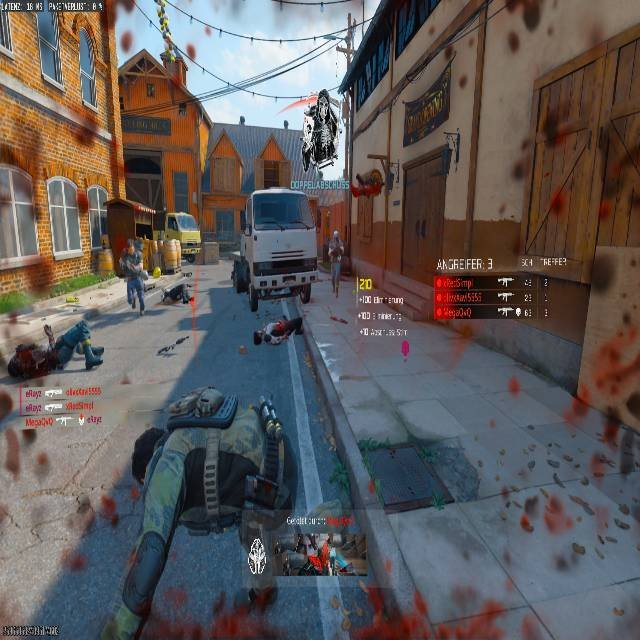head: (181, 385, 226, 419), (133, 222, 149, 241), (124, 241, 134, 255), (331, 229, 340, 240)
player: (117, 241, 147, 314), (327, 230, 345, 292), (320, 534, 344, 575)
